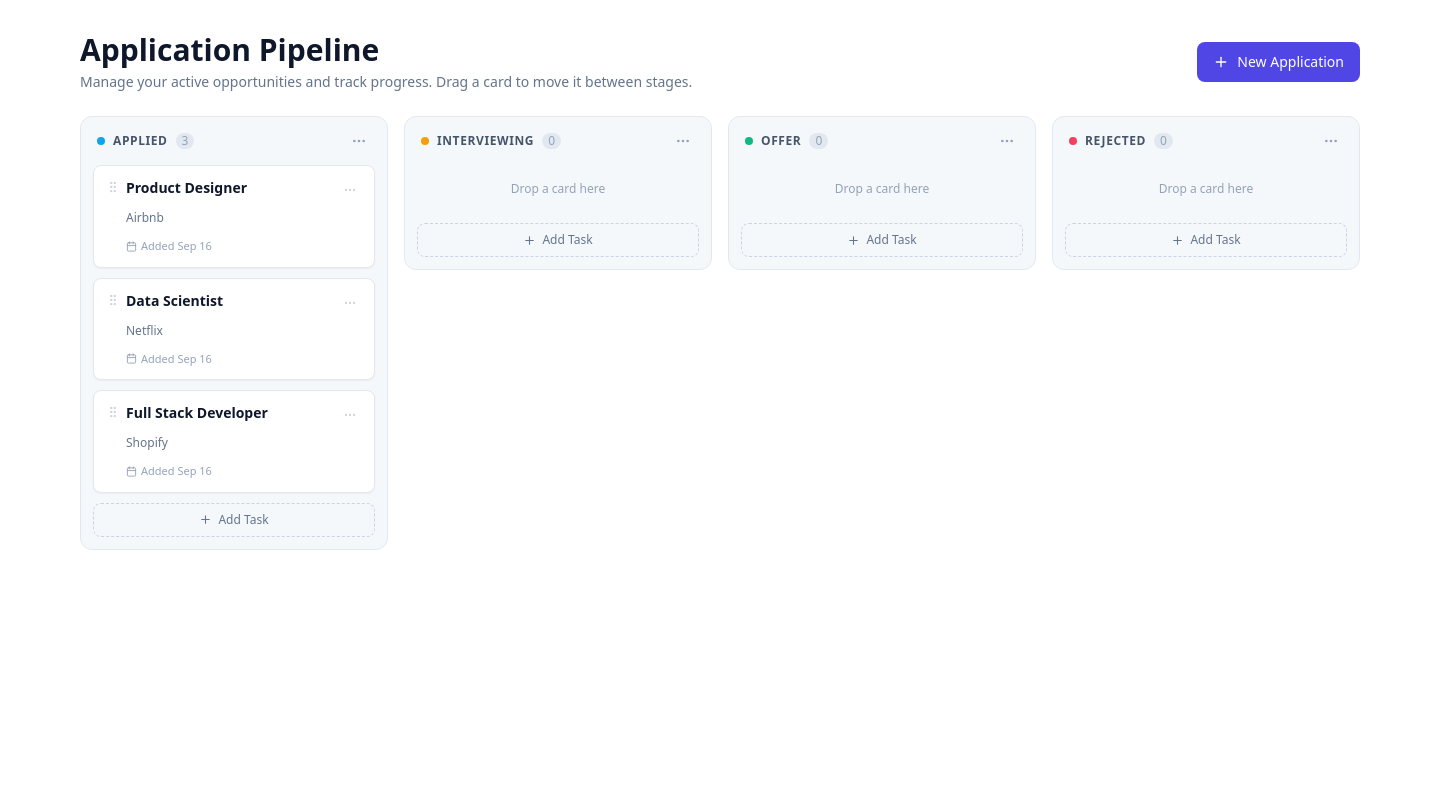
Scenario: Tracker — application pipeline › adds a new application through the modal
expect the heading "Product Designer" is shown: met, box [126,178,247,197]
expect the heading "DevOps Engineer" is not shown: met
Click the button "New Application". click: (1279, 62)
box: [1197,42,1360,82]
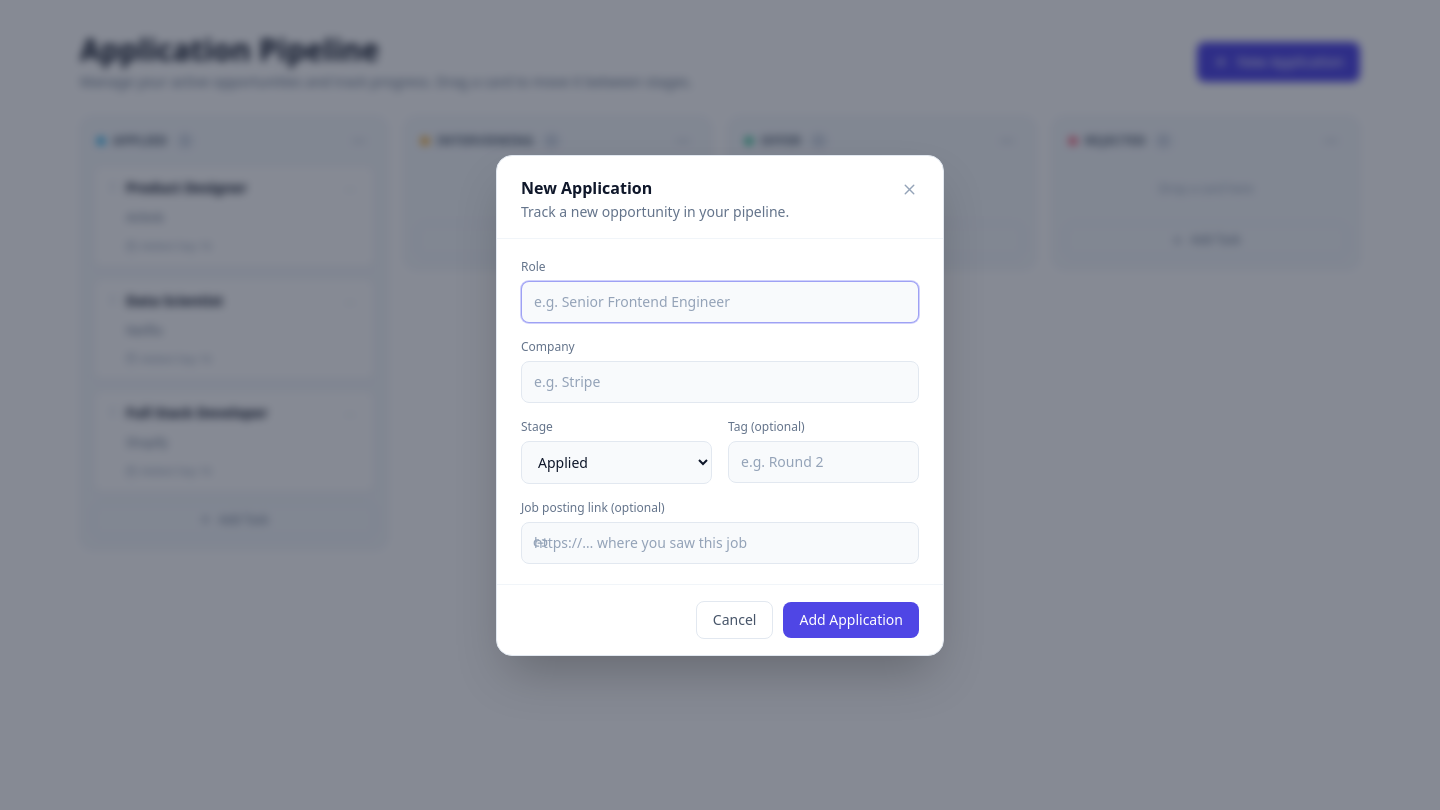
Type "DevOps Engineer" into the field with placeholder "e.g. Senior Frontend Engineer". click: (720, 302)
box: [521,280,919,322]
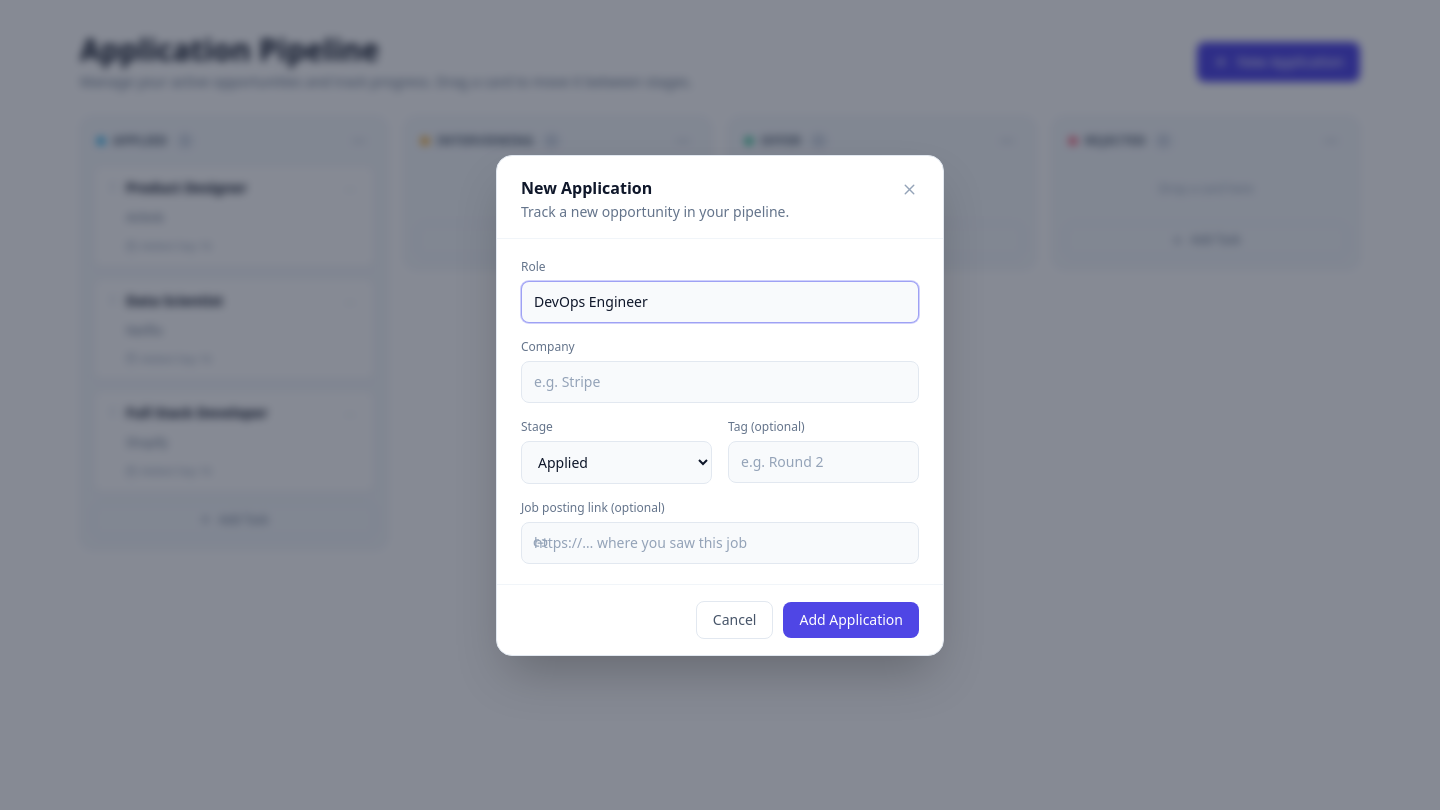
Type "Cloudflare" into the field with placeholder "e.g. Stripe". click: (720, 382)
box: [521,360,919,402]
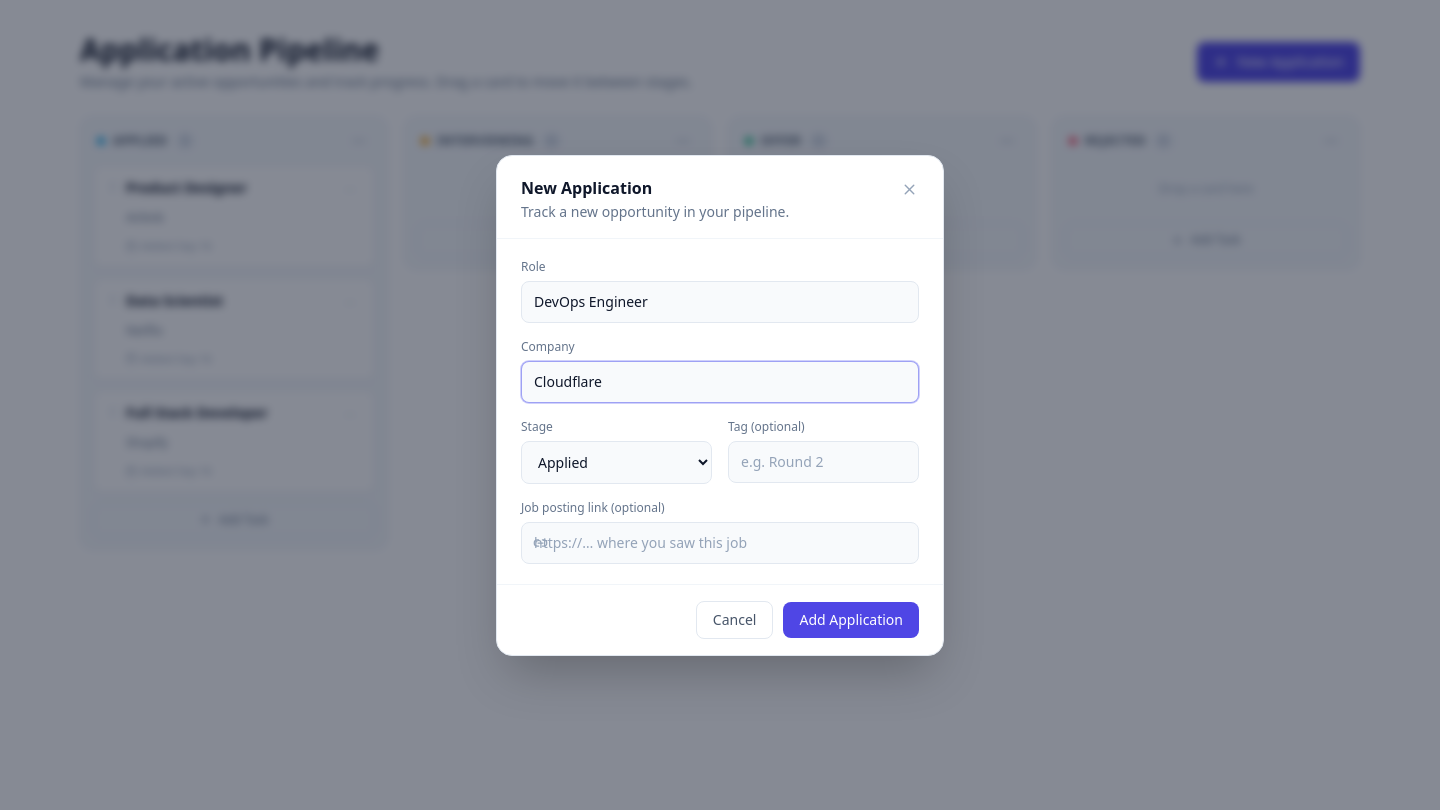
Click the button "Add Application". click: (851, 620)
box: [783,602,919,638]
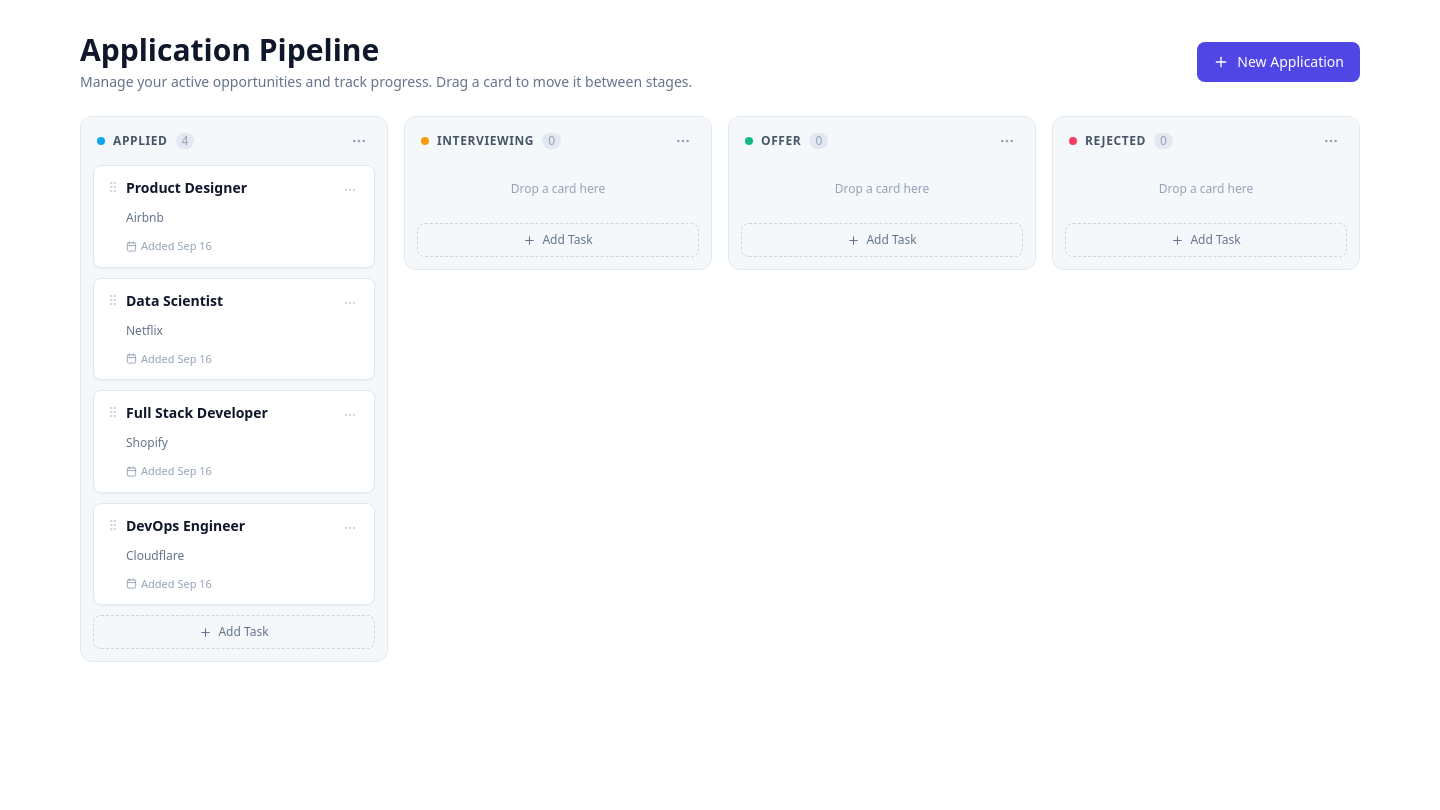
expect the text "Cloudflare" is shown: met, box [126,546,184,564]
